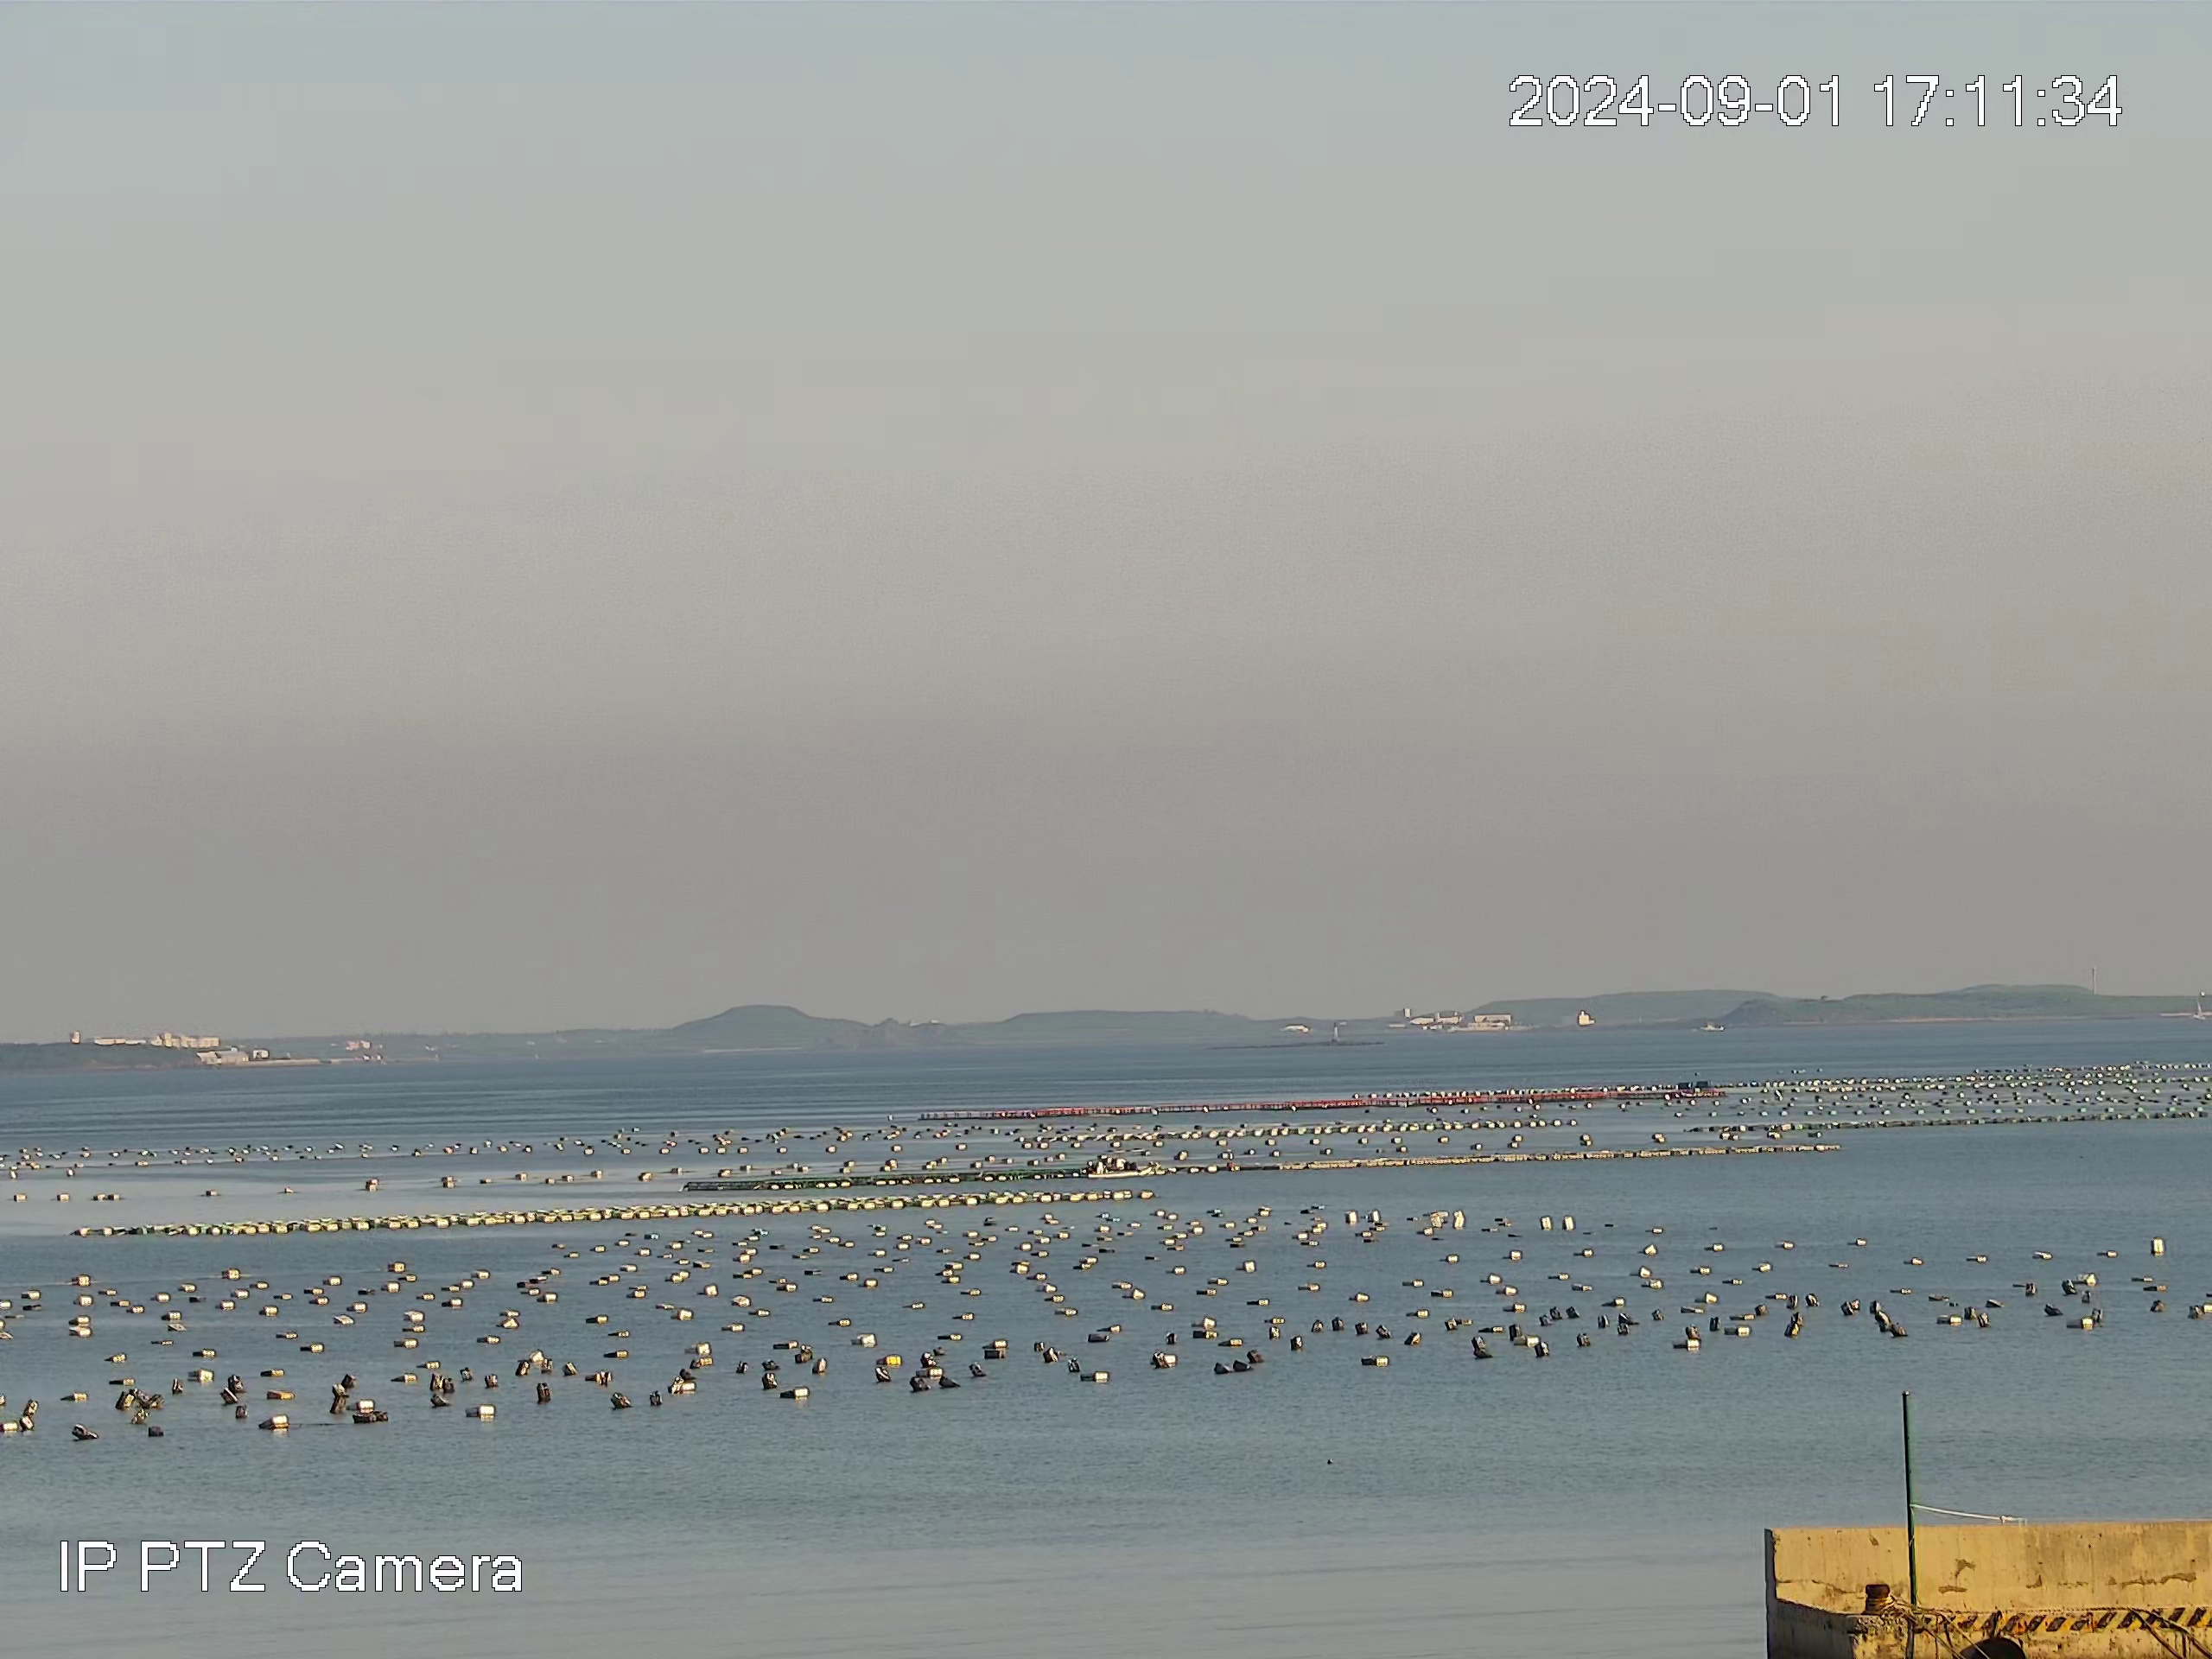boat: (1089, 1150, 1151, 1178)
